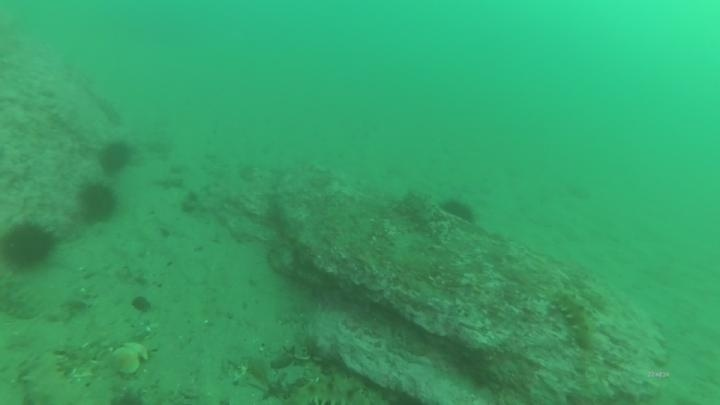echinus: (1, 217, 59, 273), (75, 180, 120, 226), (96, 138, 135, 177), (438, 195, 478, 226)
holothurian: (18, 349, 85, 405), (548, 285, 599, 352), (287, 372, 367, 405)
starfish: (268, 343, 312, 372)
